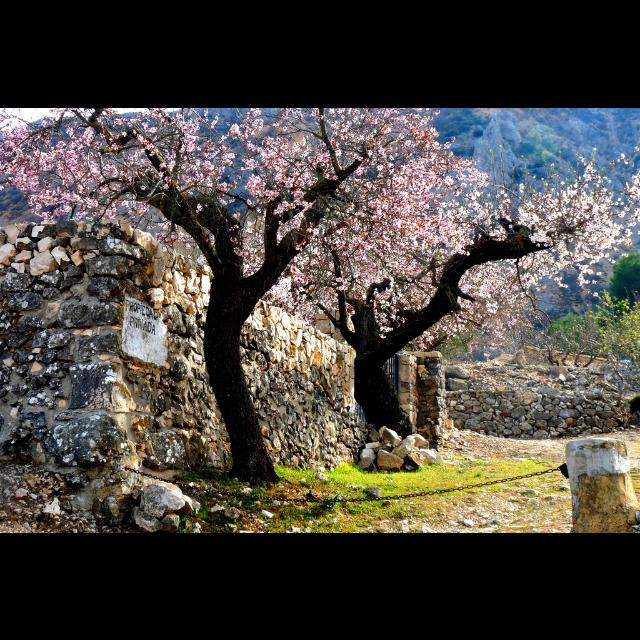Flower: (1, 107, 640, 347), (44, 181, 48, 183)
